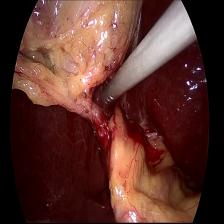Irrigator: (99, 70, 124, 114)
